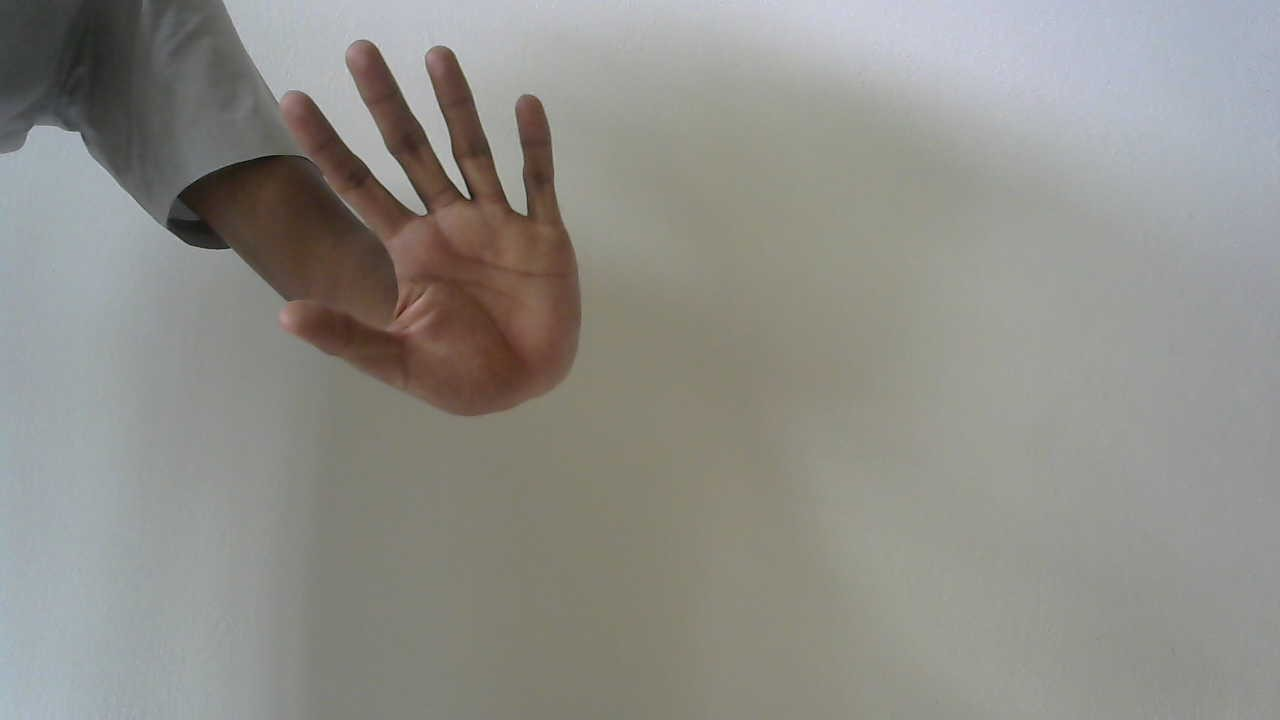hello: (272, 30, 598, 423)
